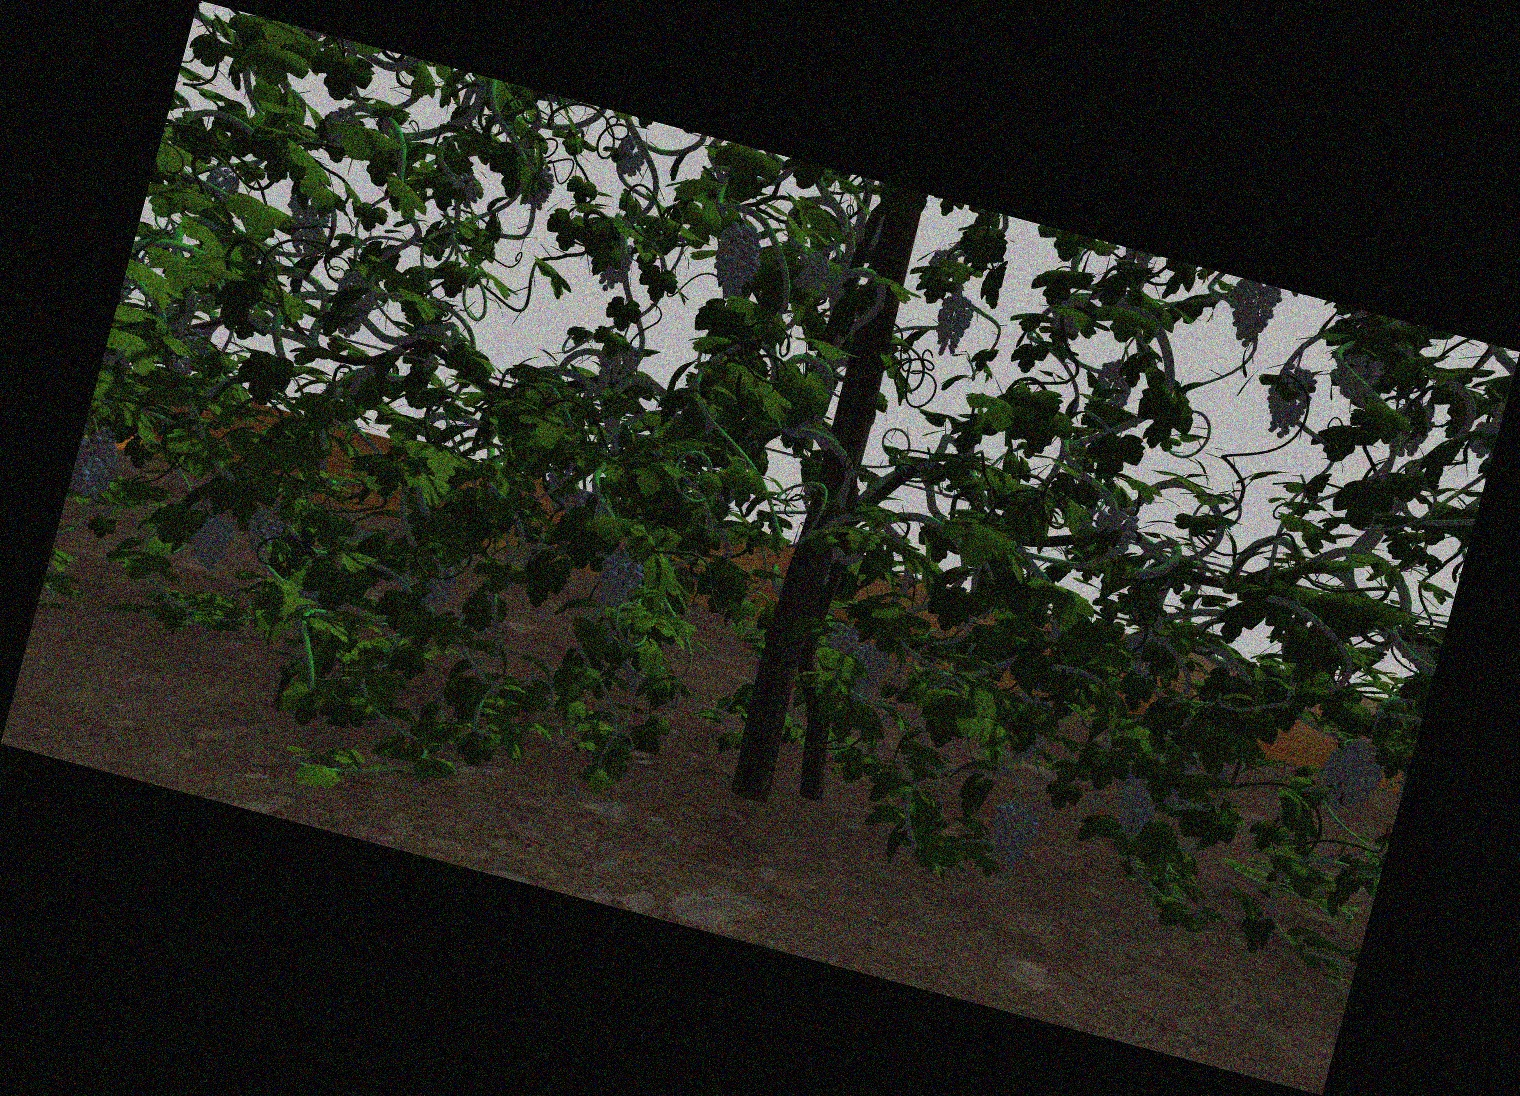grape: (1323, 741, 1382, 808), (713, 223, 760, 298), (1265, 365, 1313, 438), (1221, 287, 1277, 350), (989, 801, 1039, 869), (1090, 501, 1139, 564), (1113, 776, 1157, 845), (1326, 352, 1383, 403), (81, 429, 118, 505), (283, 198, 332, 255), (598, 549, 640, 612), (333, 274, 374, 335), (933, 294, 969, 357), (598, 333, 635, 394), (849, 647, 885, 708), (1093, 359, 1135, 411), (194, 514, 232, 571), (1049, 293, 1088, 348), (245, 506, 281, 554), (422, 564, 458, 611), (820, 621, 859, 659), (323, 107, 359, 150), (793, 250, 827, 293), (202, 168, 240, 205), (612, 138, 647, 178), (603, 244, 631, 293), (448, 170, 485, 206), (529, 165, 553, 210)
